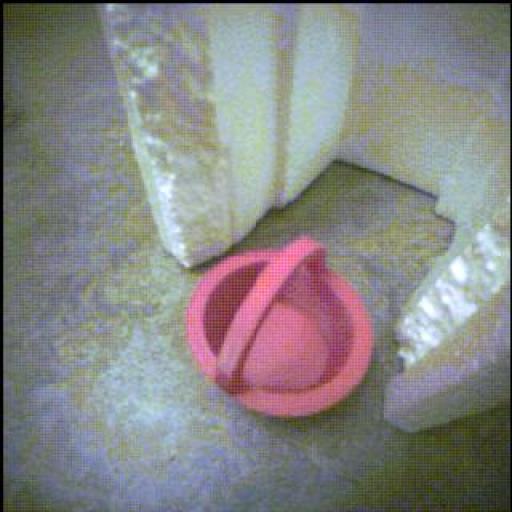Bucket: (188, 238, 374, 419)
